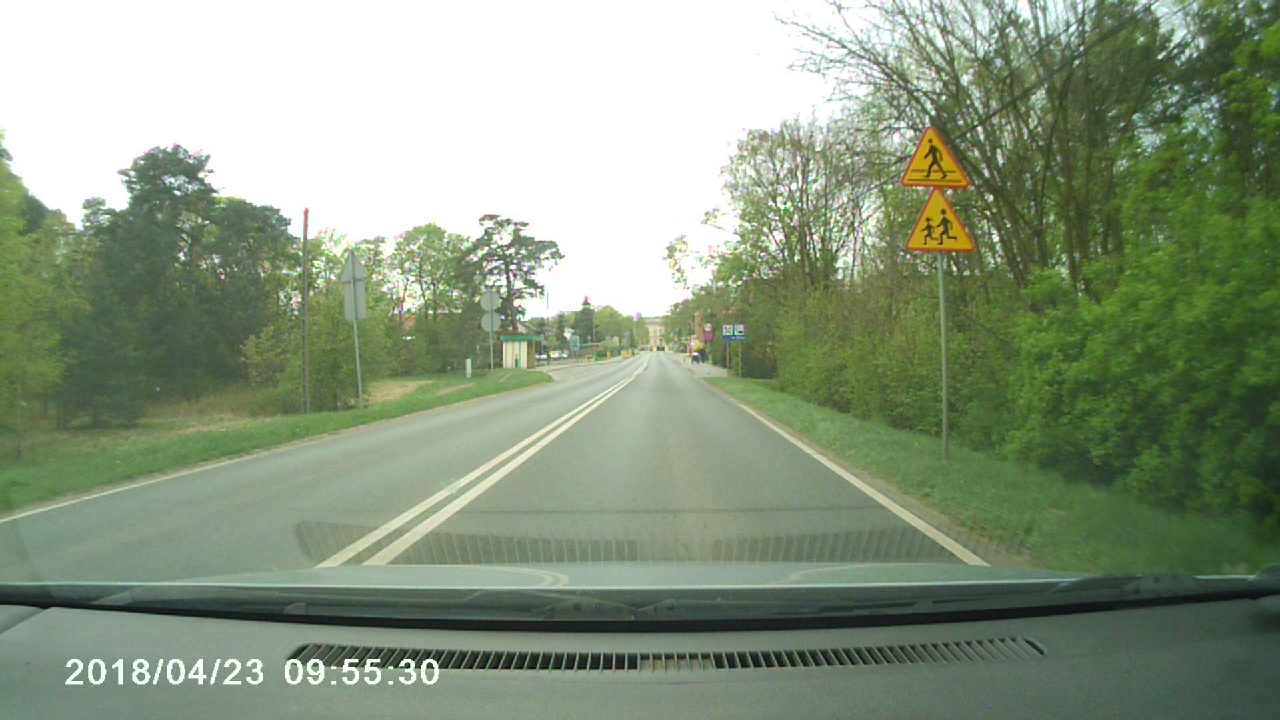A16: (901, 127, 971, 189)
A17: (907, 188, 975, 252)
